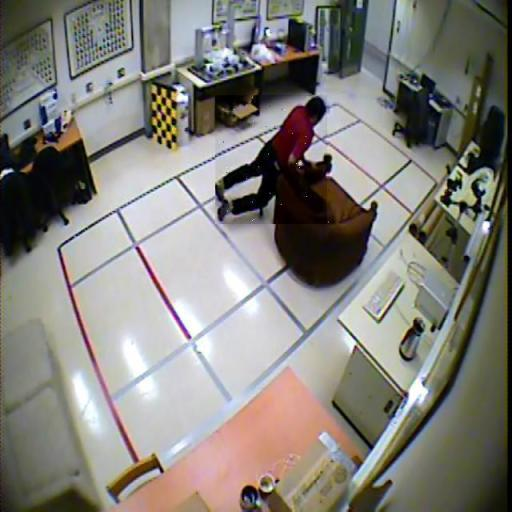Fall: (216, 95, 330, 224)
